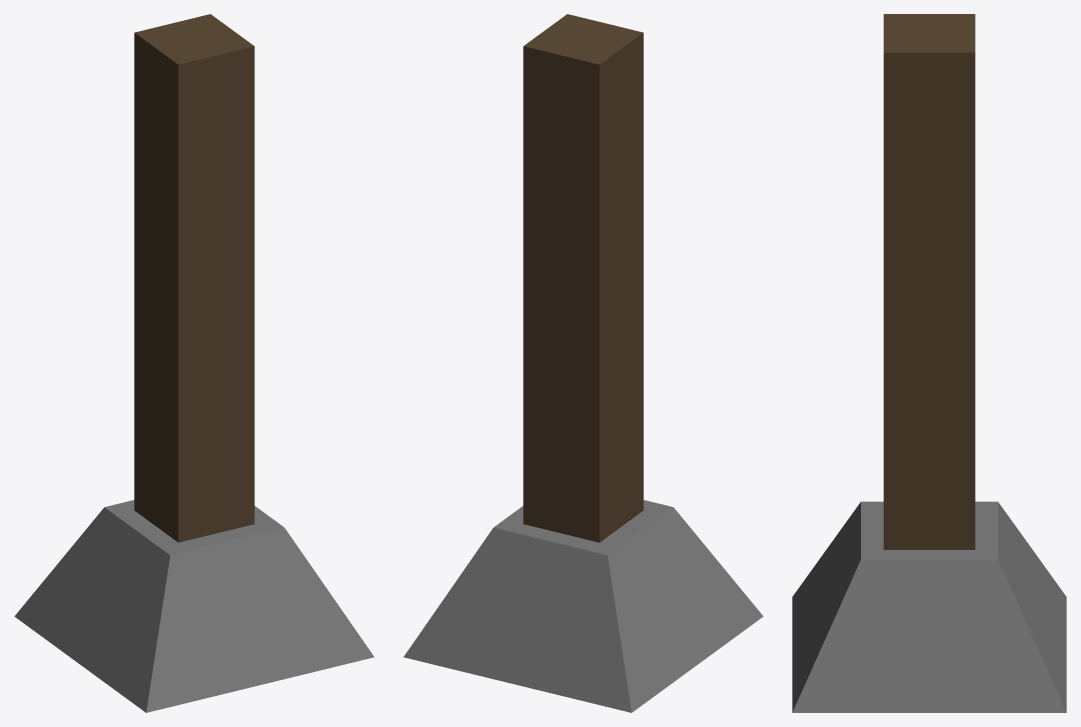
The model's file is enchantedforest_beam_base.fbx.
3 renders of one model, left to right at view 1: azimuth 30°, elevation 25°; view 2: azimuth 150°, elevation 25°; view 3: azimuth 270°, elevation 25°, orthographic. The views are drawn at different scales.
Parts seen in each view (by area): view 1: Cube.018; view 2: Cube.018; view 3: Cube.018.
Boxes of the visible parts, x1,y1,x2,y2 form: Cube.018: (14,14,374,712); Cube.018: (403,14,763,712); Cube.018: (792,14,1066,712).
Size of the model in its own units: 1.2 by 3 by 1.2.
